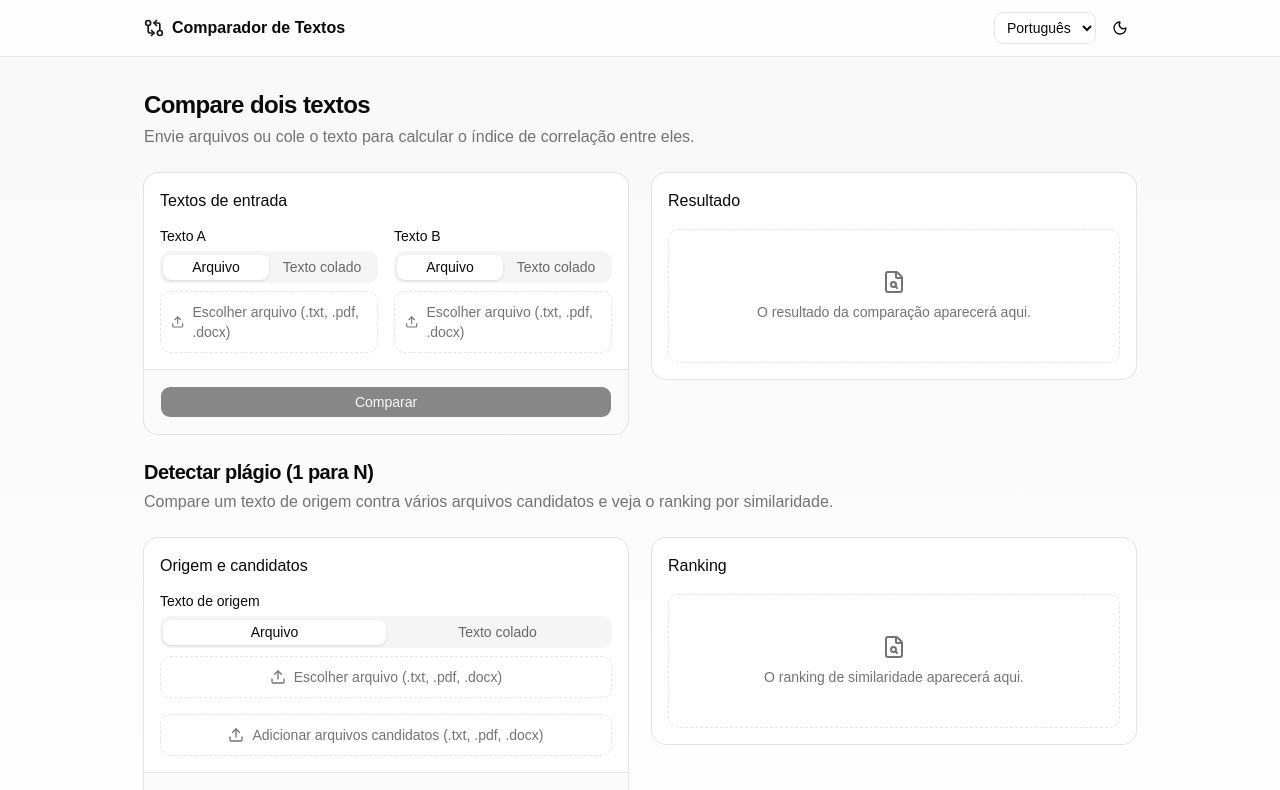
Test: App › keeps the compare button disabled until both texts are filled
Expected: the button "Comparar" is disabled, left=160, top=386, right=612, bottom=418
Click the tab "Texto colado" below "Texto A" at (322, 267), box left=269, top=254, right=375, bottom=280
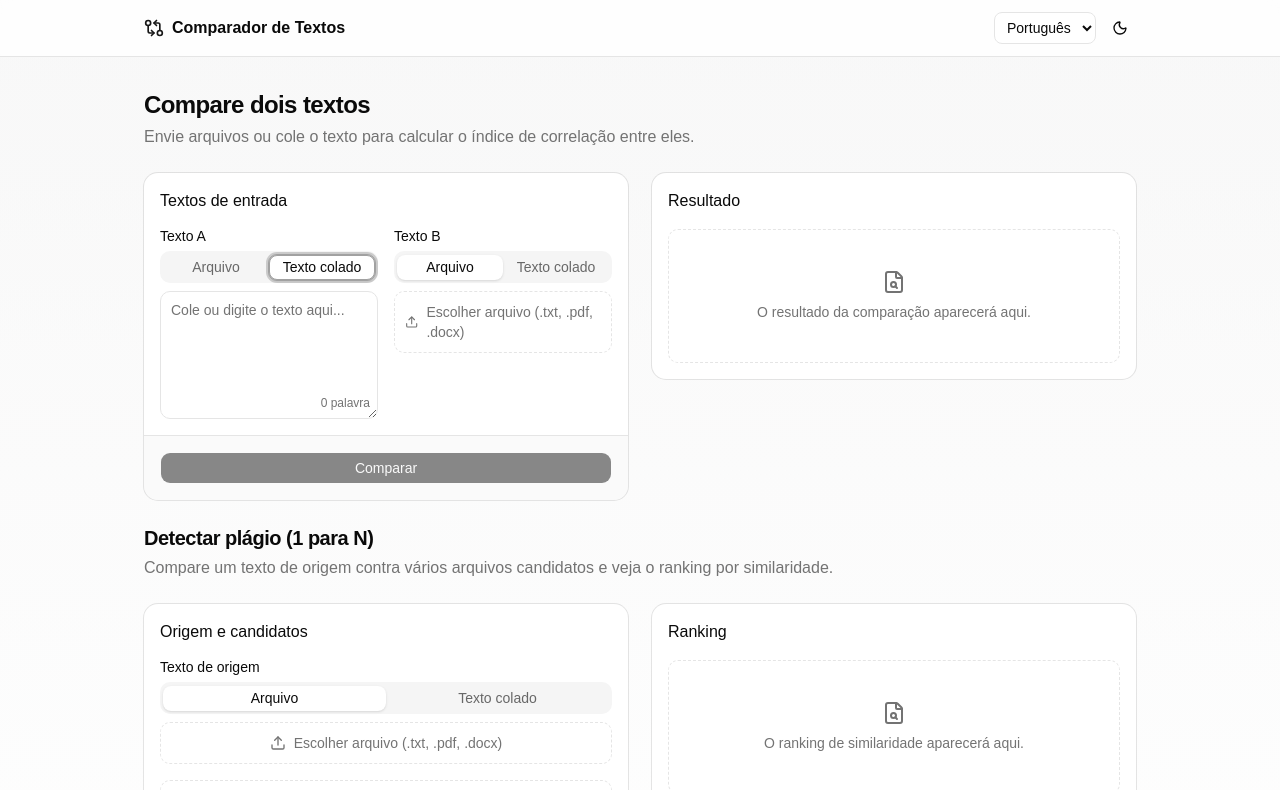
Click the tab "Texto colado" below "Texto B" at (556, 267), box left=503, top=254, right=609, bottom=280
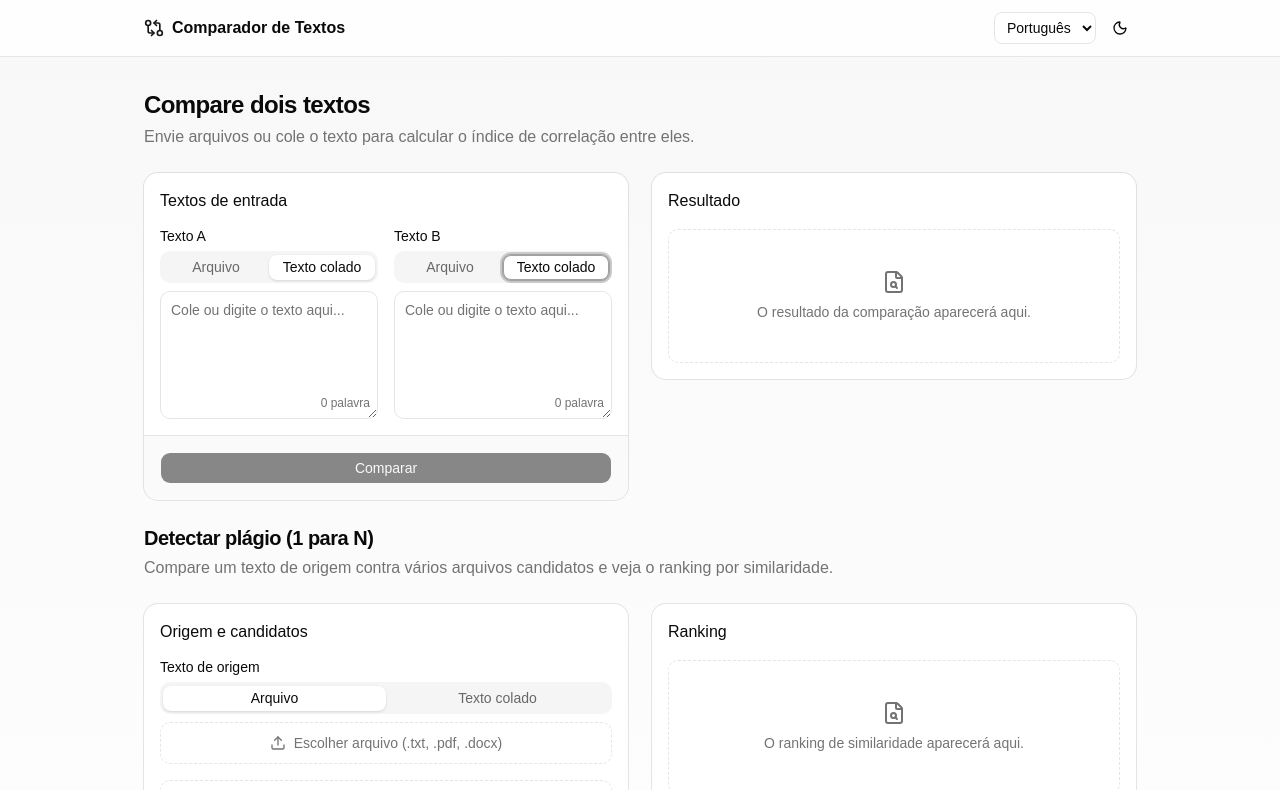
Type "texto A" into the text box with placeholder "Cole ou digite o texto aqui..." below "Texto A" at (269, 355), box left=160, top=291, right=378, bottom=419
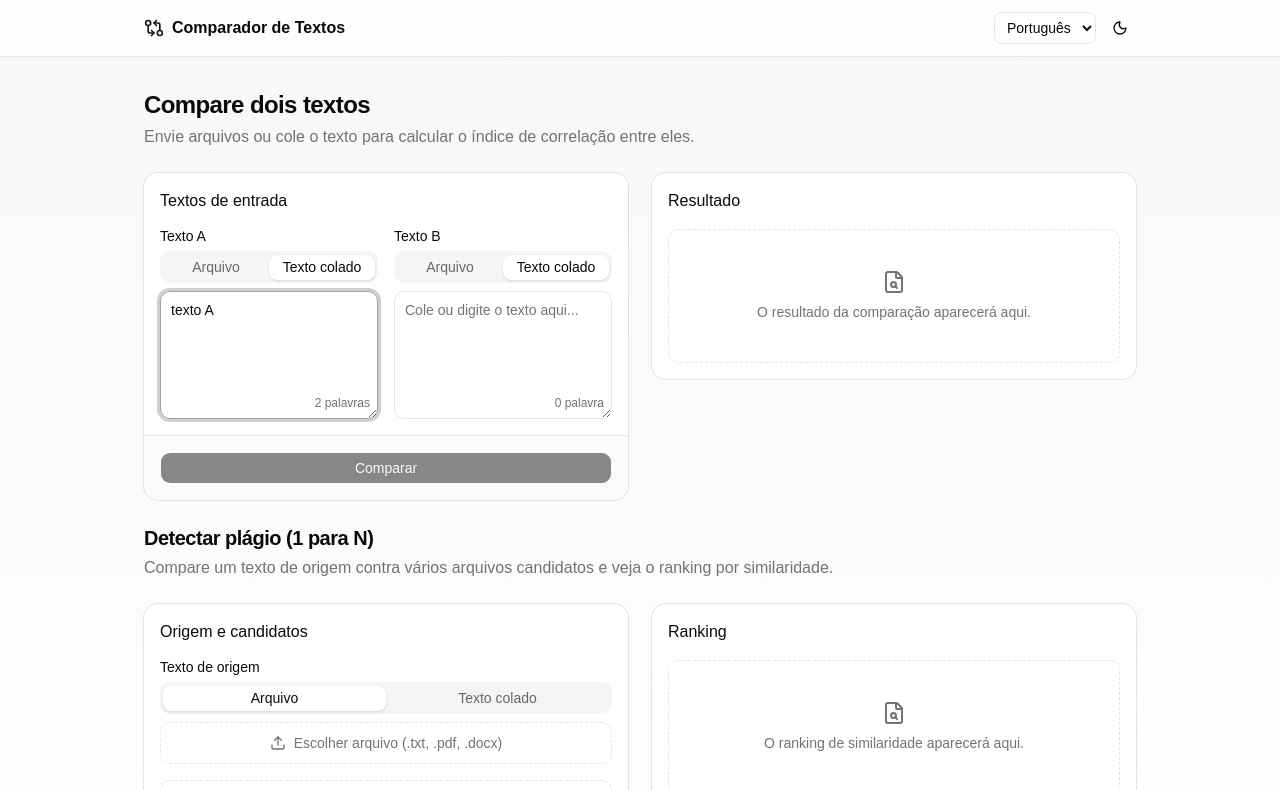
Type "texto B" into the text box with placeholder "Cole ou digite o texto aqui..." at (503, 355), box left=394, top=291, right=612, bottom=419
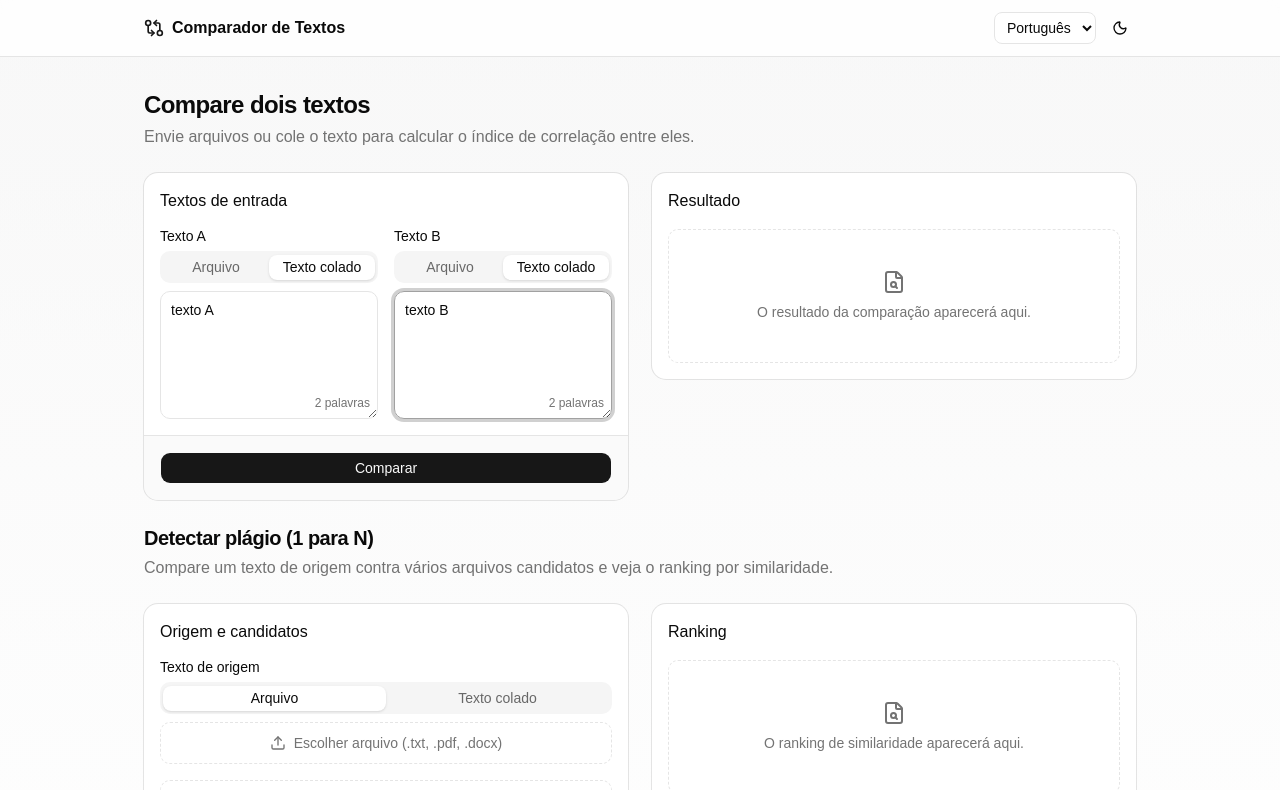
Result: the button "Comparar" is enabled at left=160, top=452, right=612, bottom=484
